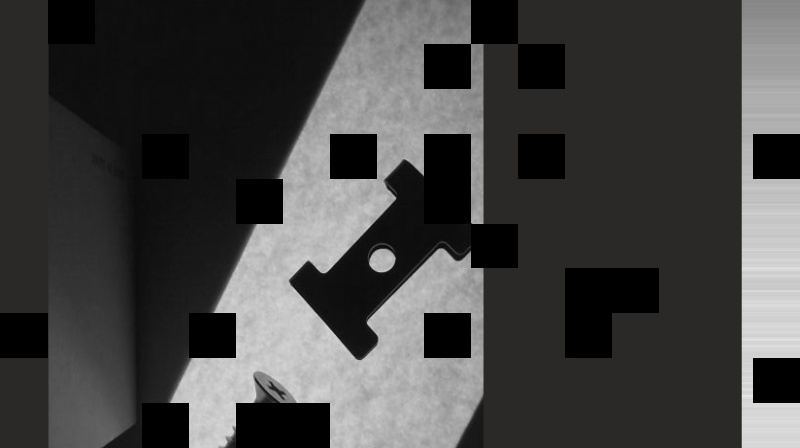O002: (286, 158, 480, 361)
S001: (176, 368, 300, 447)
